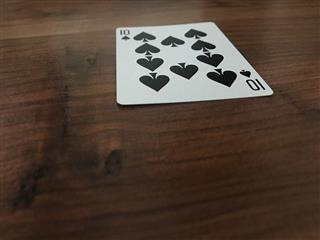TenOfSpades: (113, 20, 273, 106)
